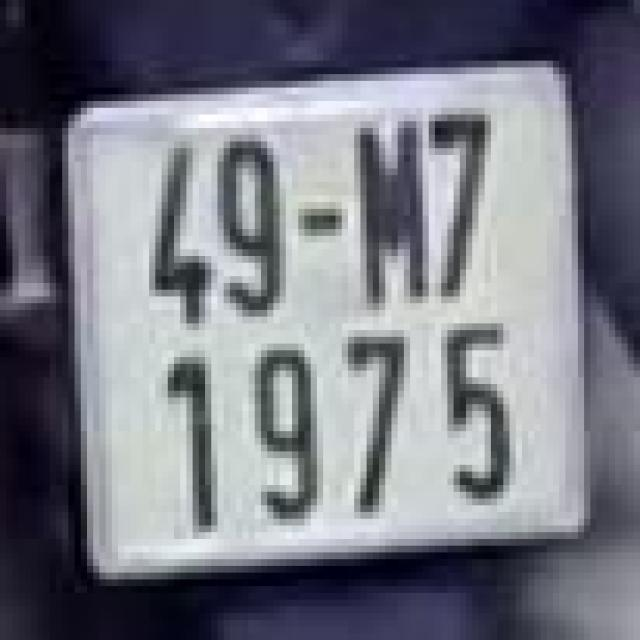1: (162, 330, 224, 546)
4: (140, 135, 214, 337)
5: (429, 310, 522, 512)
7: (332, 327, 420, 522), (429, 101, 497, 303)
9: (239, 324, 326, 526), (224, 125, 292, 320)
M: (345, 108, 438, 310)
